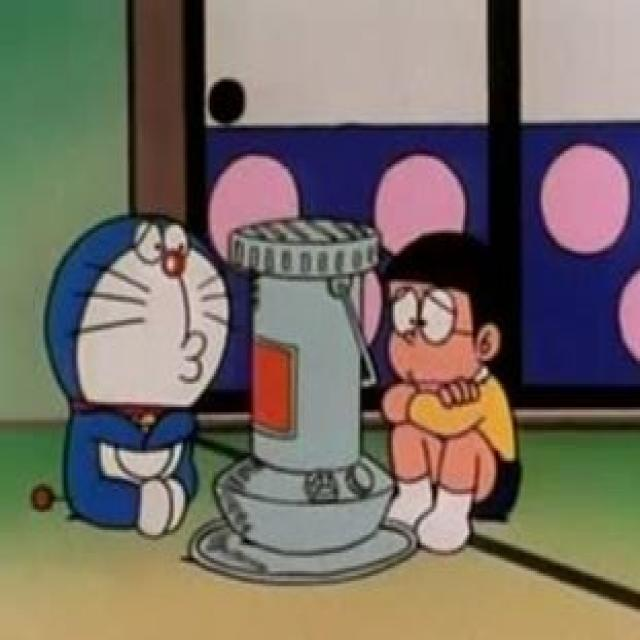doraemon: (33, 200, 237, 448)
nobita: (378, 223, 512, 412)
